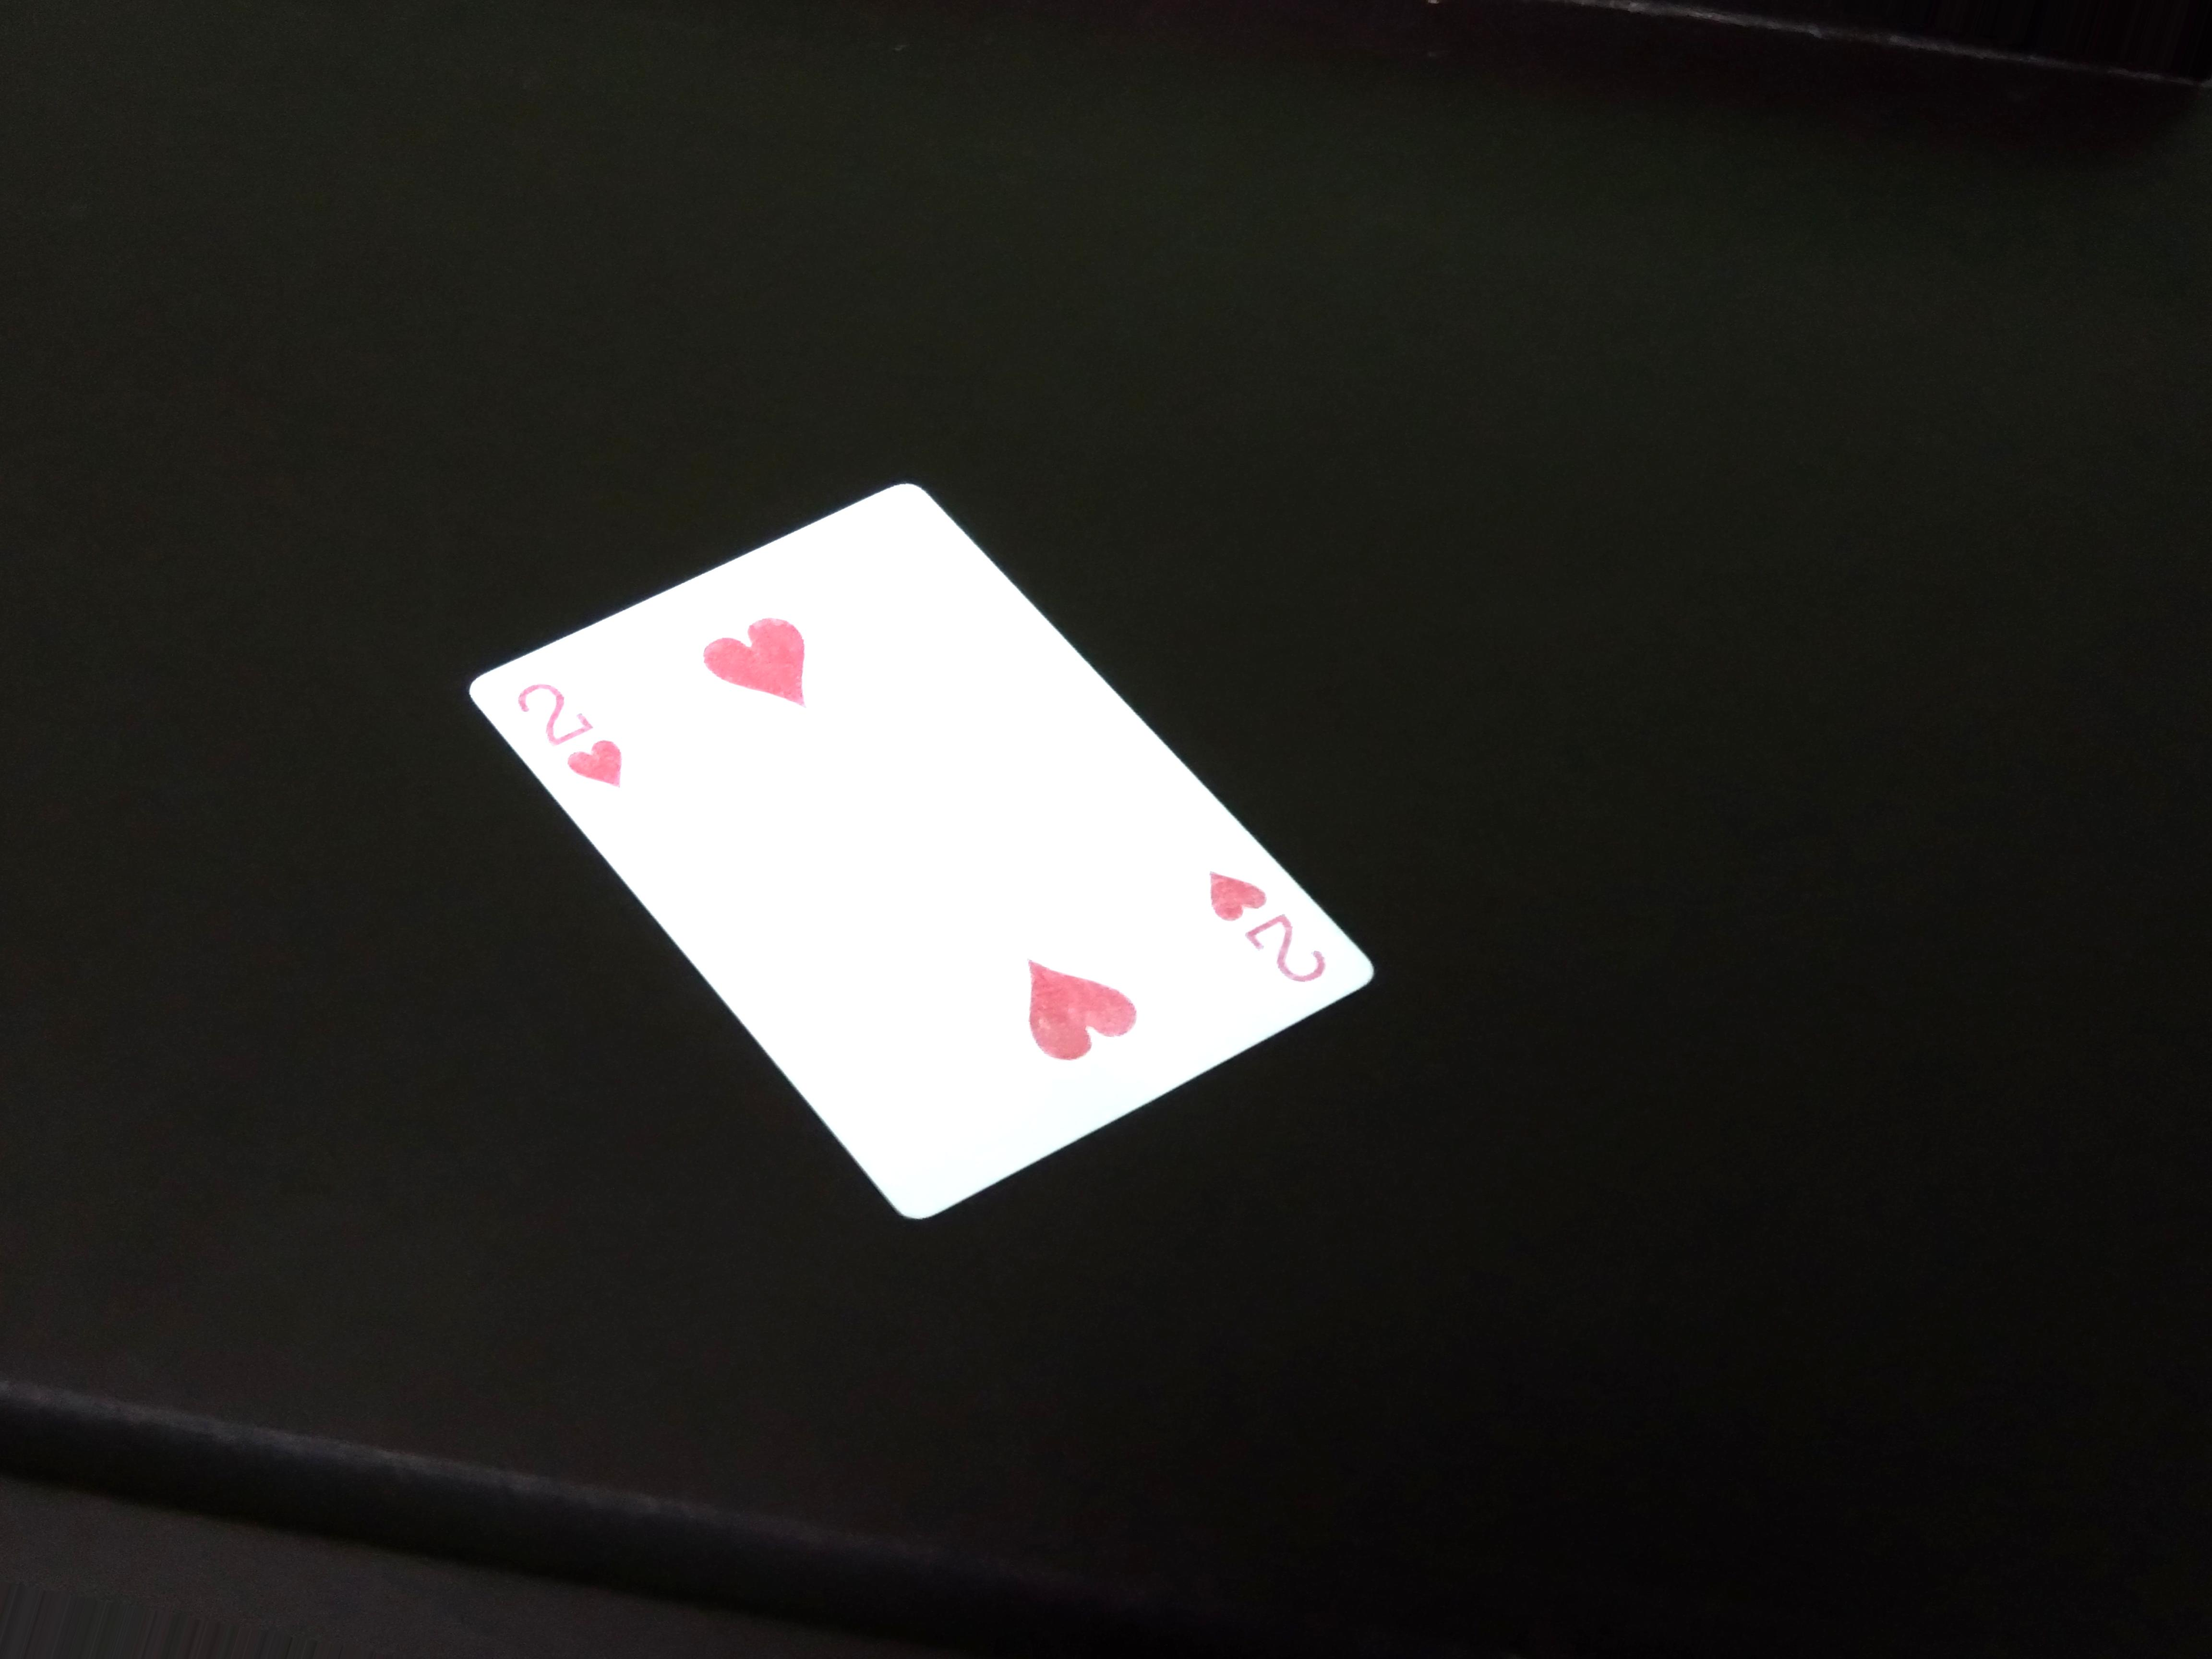2H: (503, 666, 648, 779)
